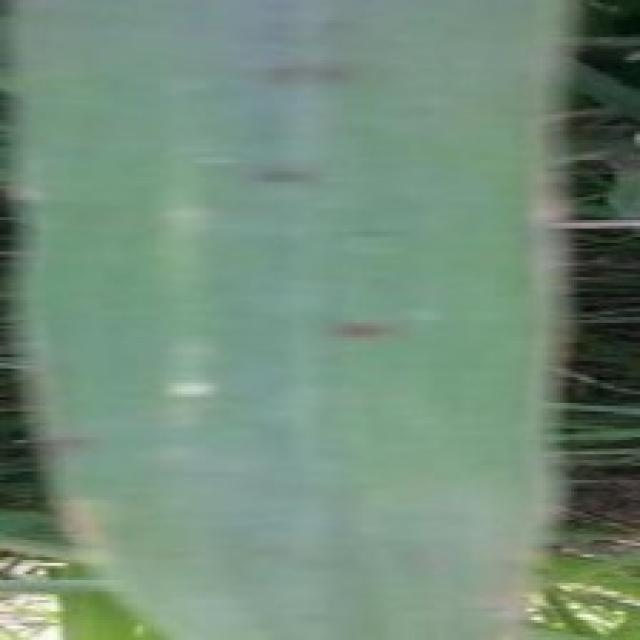Rice___Brown_Spot: (13, 0, 572, 637)
